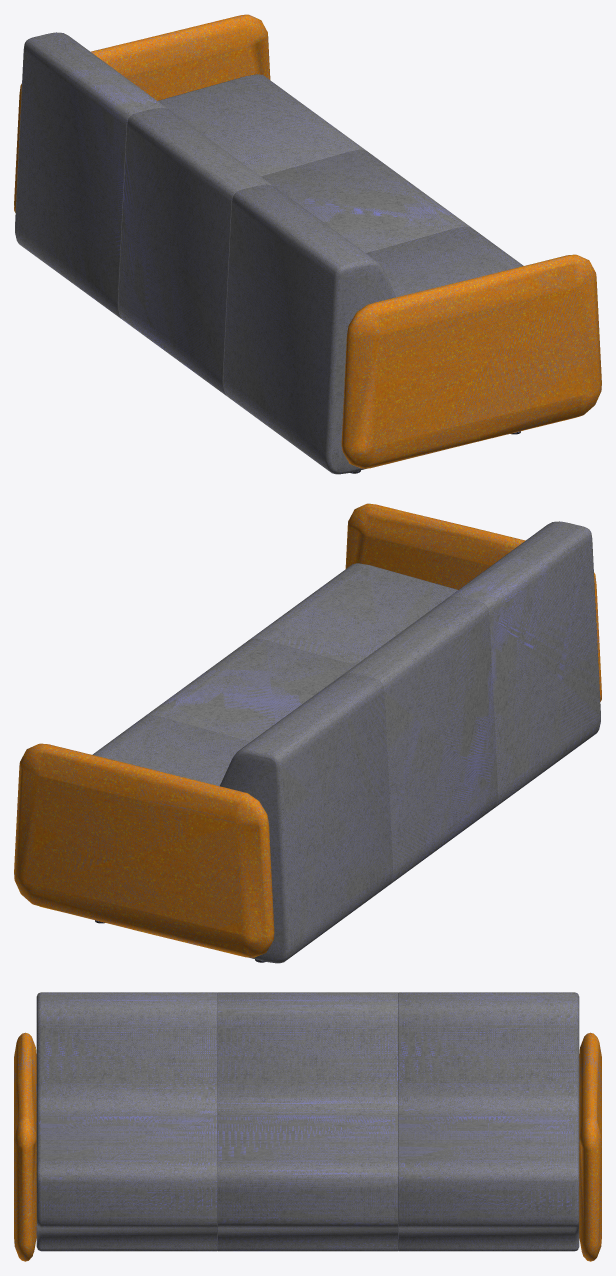
Rendered from Sofa.dae.
The picture shows the model from 3 angles, top to bottom: view 1: azimuth 30°, elevation 25°; view 2: azimuth 150°, elevation 25°; view 3: azimuth 270°, elevation 25°; orthographic projection. The views are drawn at different scales.
Visible parts, largest first — view 1: SketchUp (×3); view 2: SketchUp (×3); view 3: SketchUp (×3).
Boxes of the visible parts, bbox=[...] form: SketchUp (×3): bbox=[14, 14, 601, 474]; SketchUp (×3): bbox=[14, 503, 601, 963]; SketchUp (×3): bbox=[14, 992, 601, 1261].
Bounding box in the file's own units: 36.68 × 81.3 × 27.8.
Materials: 5 (2 with a texture image).
